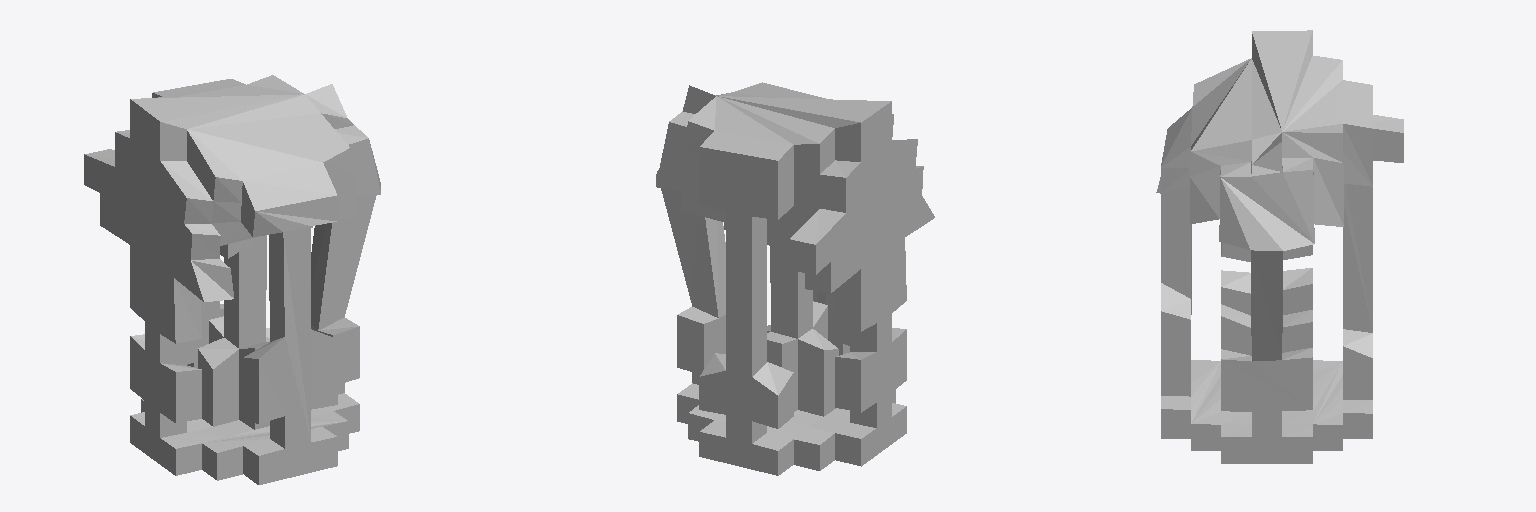
Rendered from Bot1-3.obj.
3 renders of one model, left to right at view 1: azimuth 30°, elevation 25°; view 2: azimuth 150°, elevation 25°; view 3: azimuth 270°, elevation 25°, orthographic.
Parts seen in each view (by area): view 1: Bot1-3.002; view 2: Bot1-3.002; view 3: Bot1-3.002.
Boxes of the visible parts, <box> form: Bot1-3.002: <box>84,75,380,484</box>; Bot1-3.002: <box>656,82,934,475</box>; Bot1-3.002: <box>1156,30,1403,463</box>.
Bounding box in the file's own units: 0.8337 × 1.25 × 0.8143.